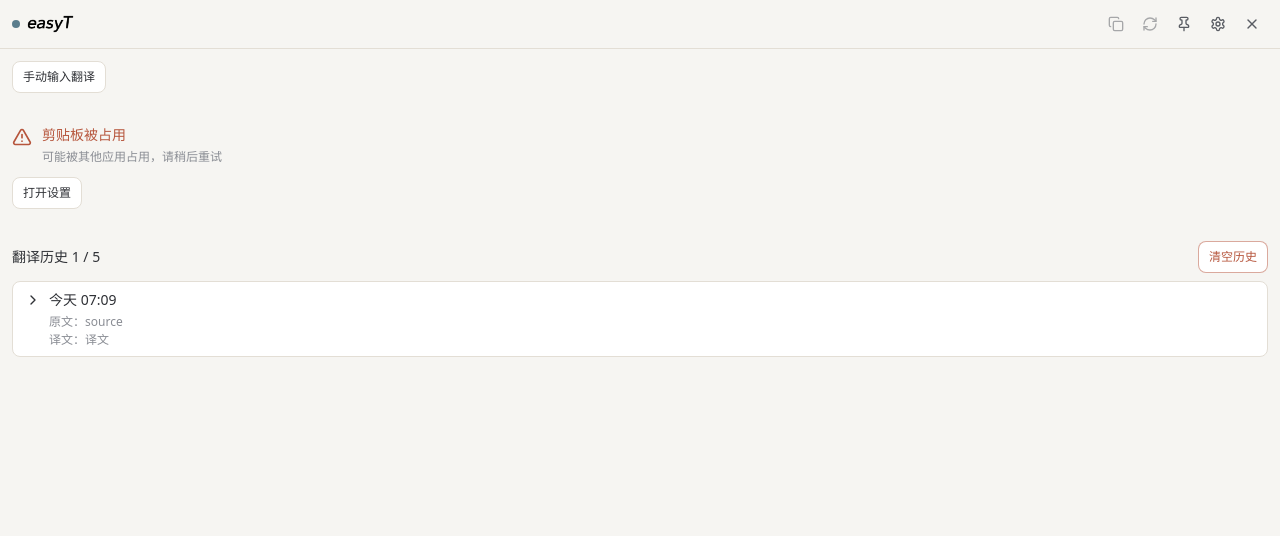
TranslationPage shortcut behavior › offers manual translation after capture failure even with history
Click the button "手动输入翻译" at (59, 77), box [12,61,106,93]
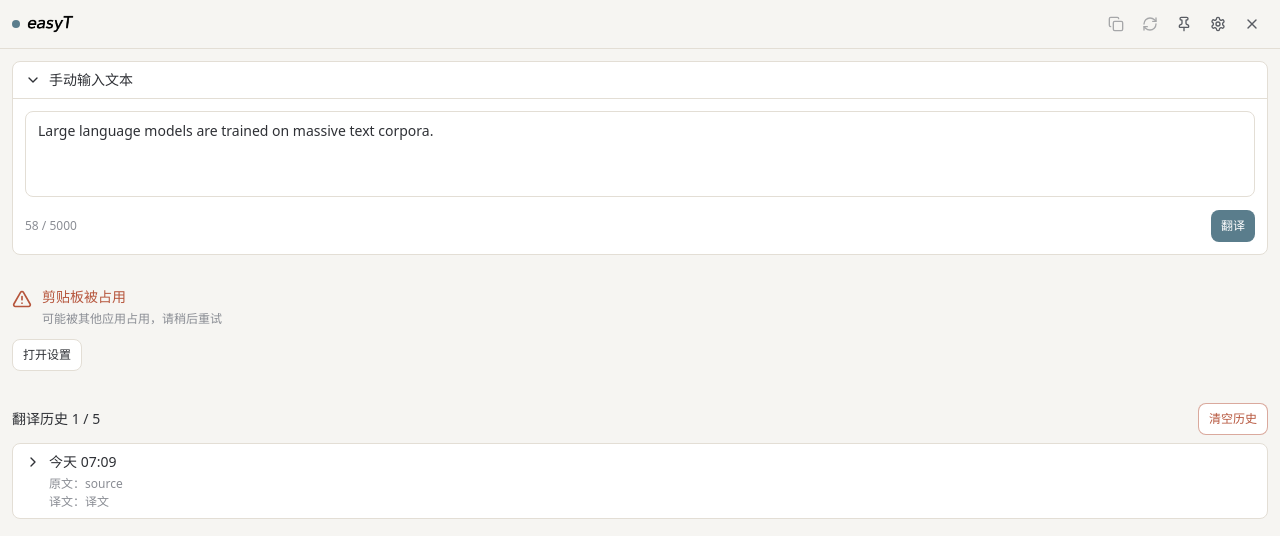
Expected: the text box with placeholder "例如：Large language models are trained on massive text corpora." is shown, [25,111,1255,197]
